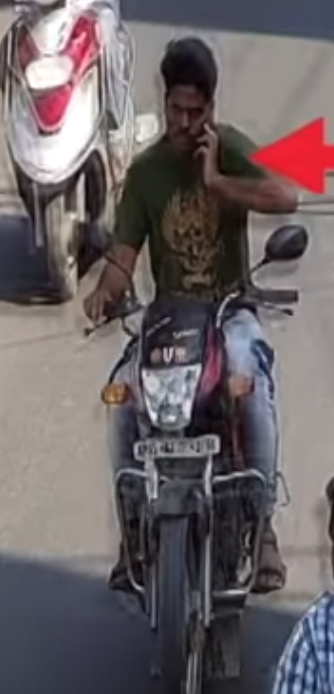h_bike: (103, 42, 288, 681)
h_nohelmet: (150, 34, 222, 168)
numplate: (128, 432, 232, 470)
